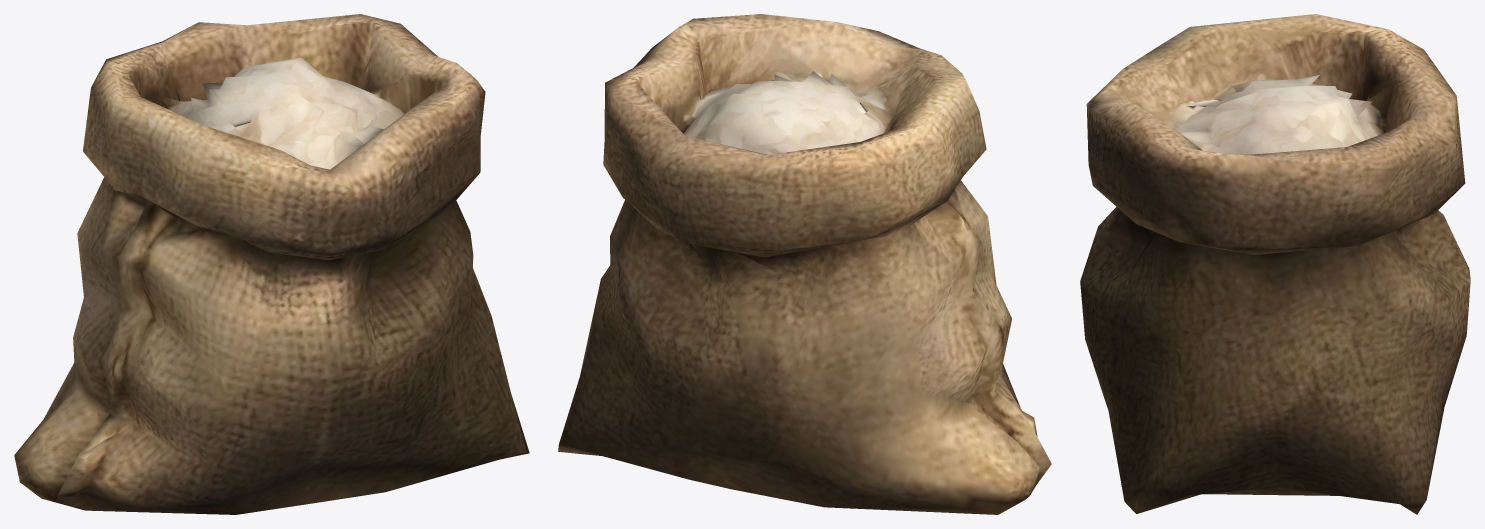
The model's file is harina-desktop.glb.
The picture shows the model from 3 angles, left to right: view 1: azimuth 30°, elevation 25°; view 2: azimuth 150°, elevation 25°; view 3: azimuth 270°, elevation 25°; orthographic projection. The views are drawn at different scales.
Visible parts, largest first — view 1: tripo_node_30ada640-0b09-46fb-9b6b-e853280fced0; view 2: tripo_node_30ada640-0b09-46fb-9b6b-e853280fced0; view 3: tripo_node_30ada640-0b09-46fb-9b6b-e853280fced0.
Part boxes in pixels (left/top/right/bottom): tripo_node_30ada640-0b09-46fb-9b6b-e853280fced0: left=14, top=14, right=529, bottom=514; tripo_node_30ada640-0b09-46fb-9b6b-e853280fced0: left=558, top=14, right=1051, bottom=514; tripo_node_30ada640-0b09-46fb-9b6b-e853280fced0: left=1080, top=14, right=1470, bottom=514.
Size of the model in its own units: 0.9763 by 0.8019 by 0.8012.
1 material, 1 textured.
